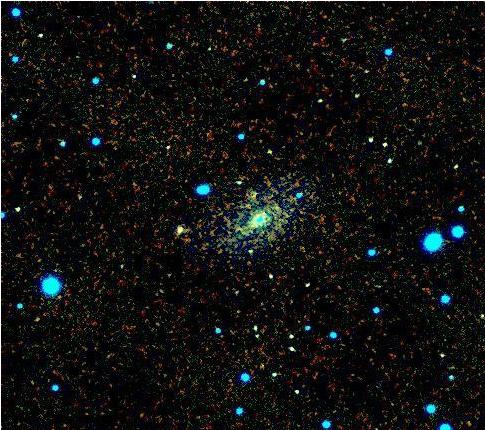star: (259, 191, 289, 221)
